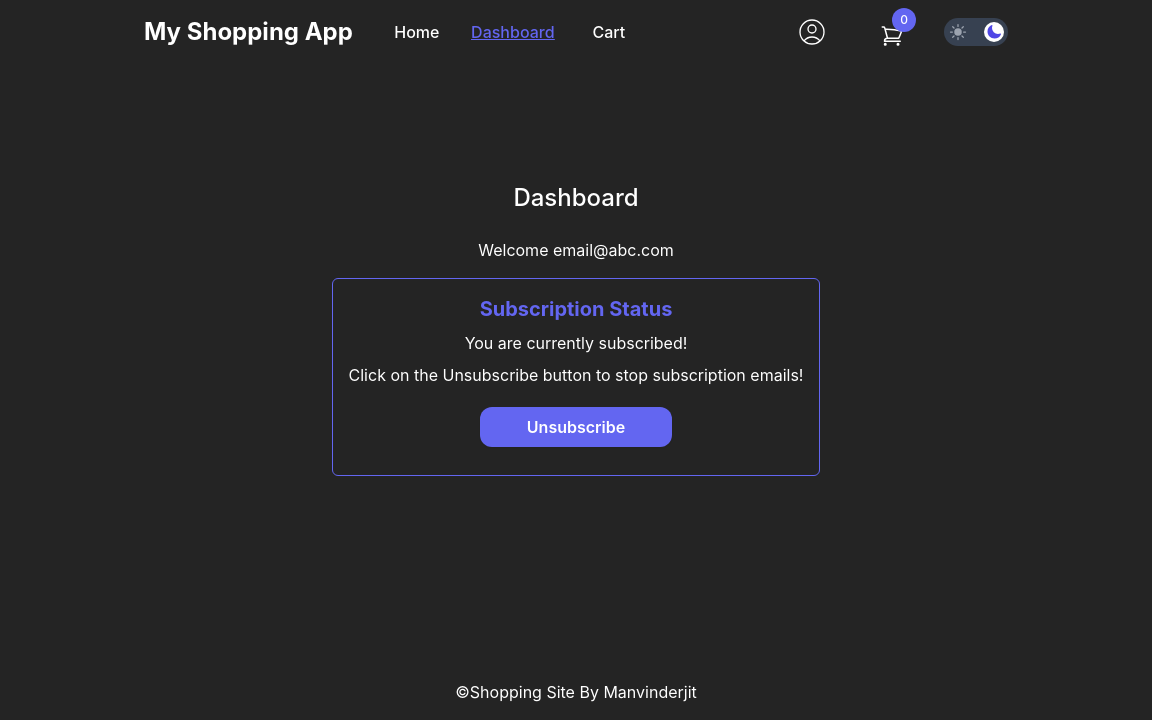
Test: User Cancel Subscription › should handle errors gracefully and render error messages when subscription can't be cancelled
The image size is (1152, 720).
Actions - Click on the subscribe button
Click the button with aria-label "unsubscribe-products": (576, 427) [480,407,672,447]
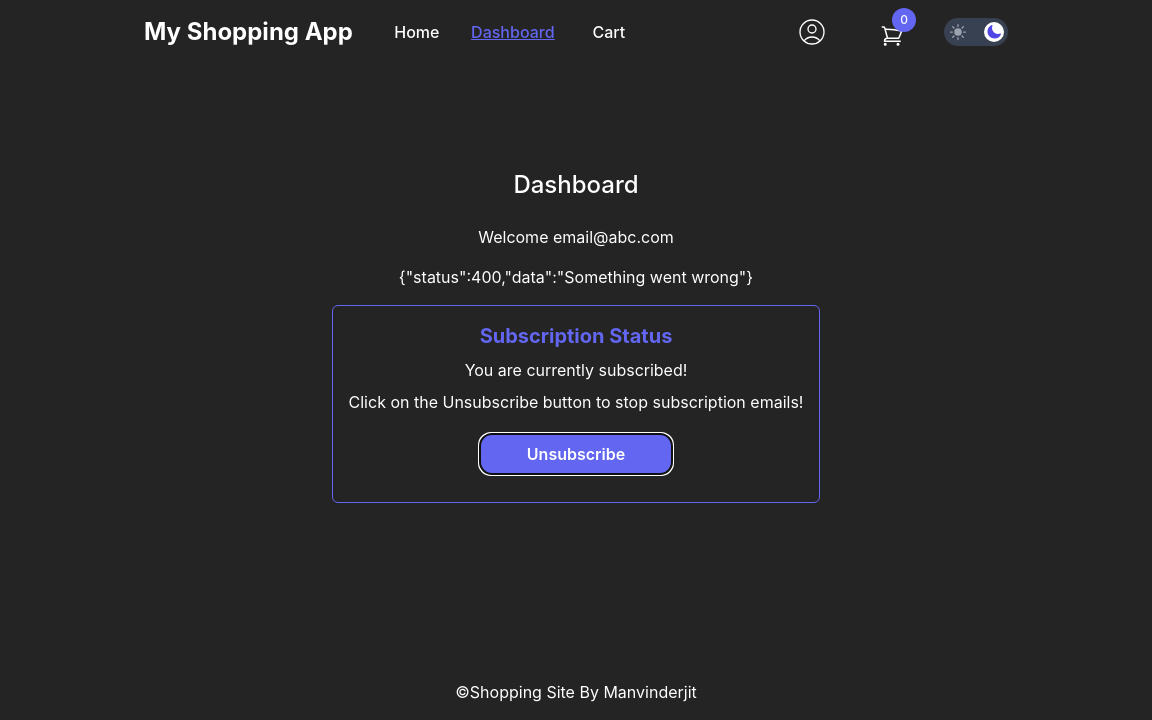
Result: the text "{\"status\":400,\"data\":\"Something went wrong\"}" is shown at [399,265,753,289]
